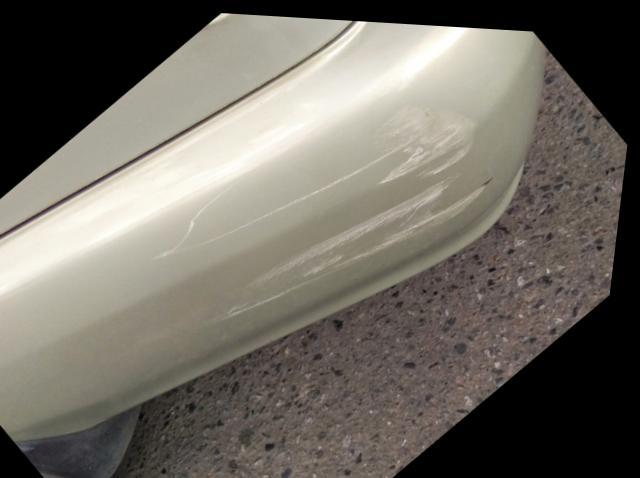scratch: (236, 93, 496, 309)
